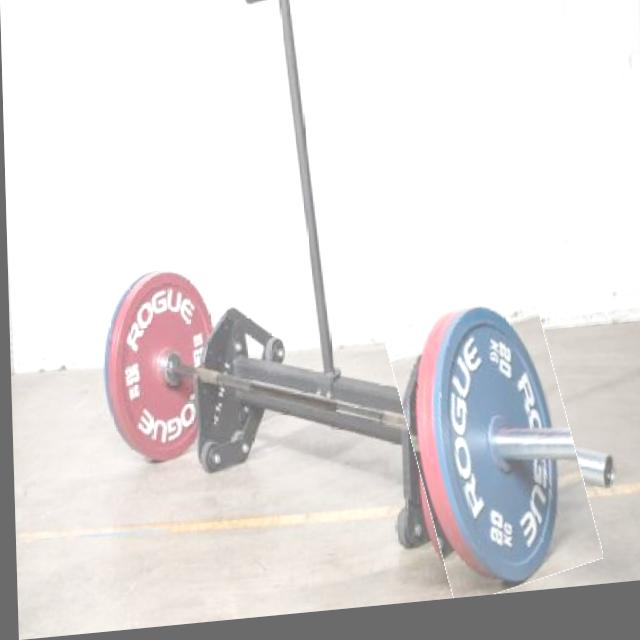barbell: (394, 290, 585, 612)
